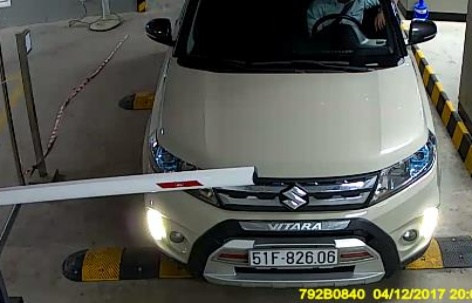plate: (248, 244, 341, 271)
